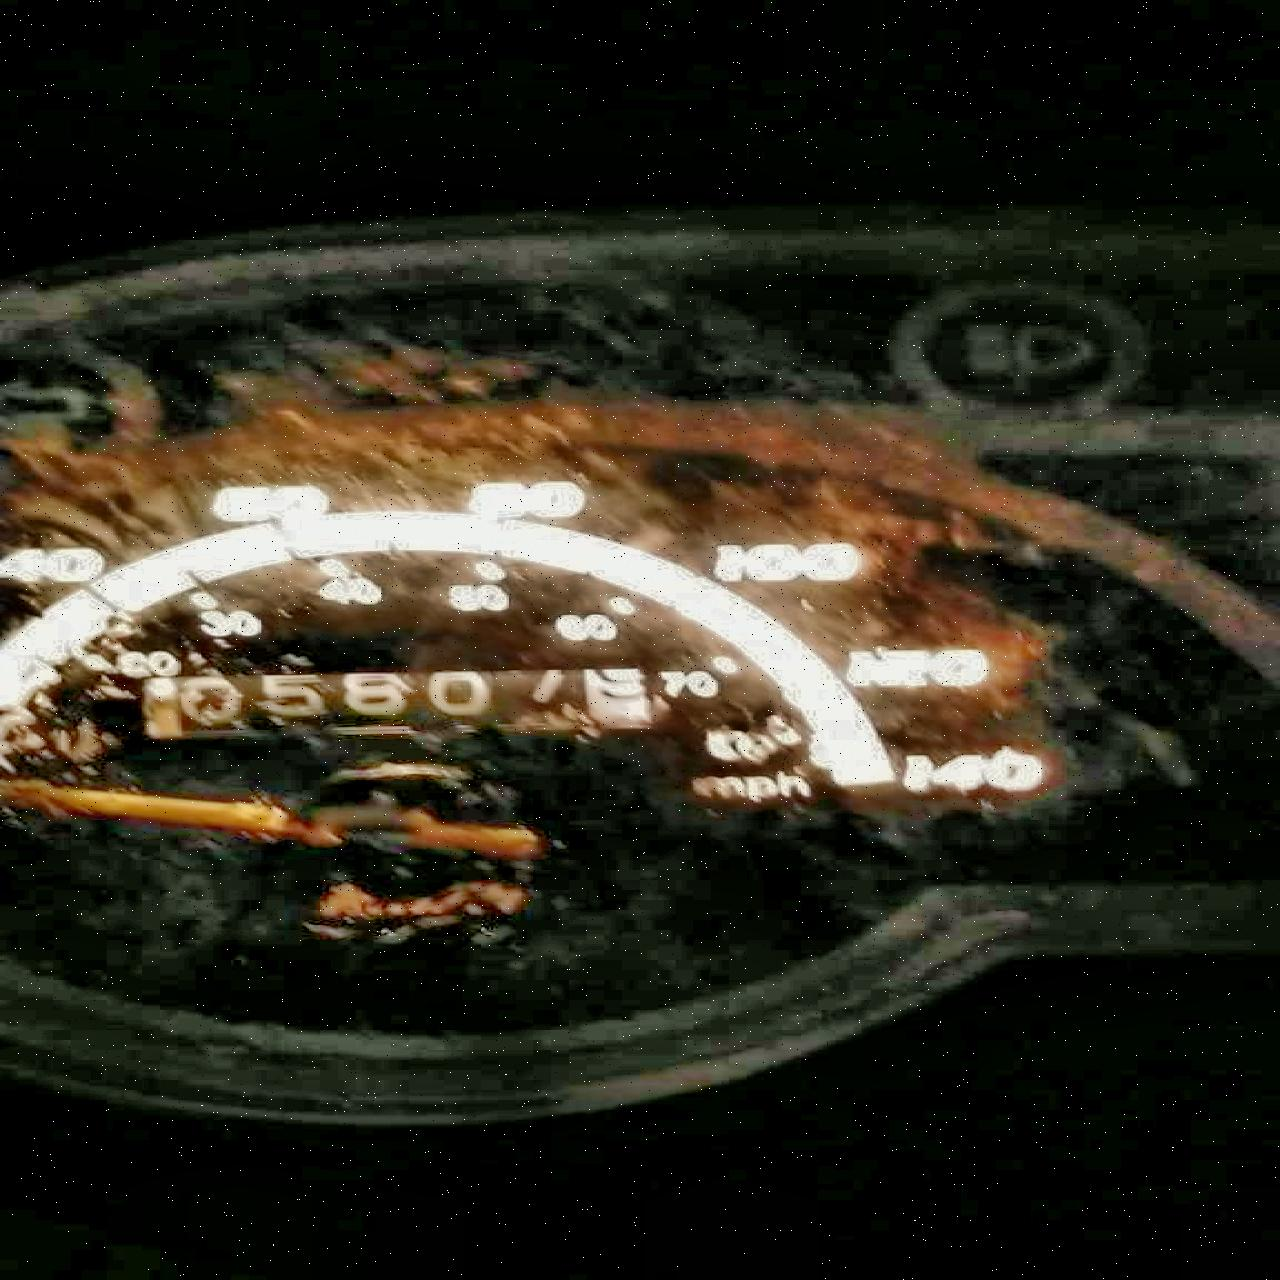0: (416, 669, 491, 726), (178, 673, 243, 729)
5: (253, 670, 328, 720)
7: (499, 665, 573, 712)
8: (338, 667, 411, 717)
9: (588, 666, 649, 710)
odometer: (139, 665, 660, 734)
